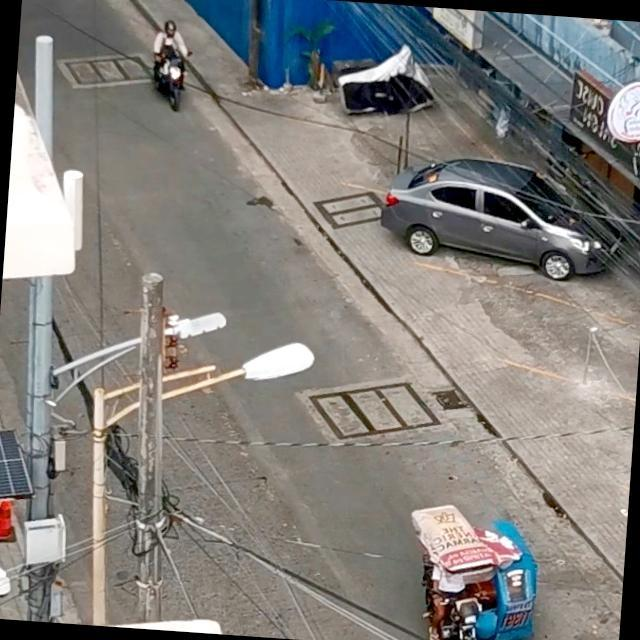Tricycle: (392, 483, 570, 640)
